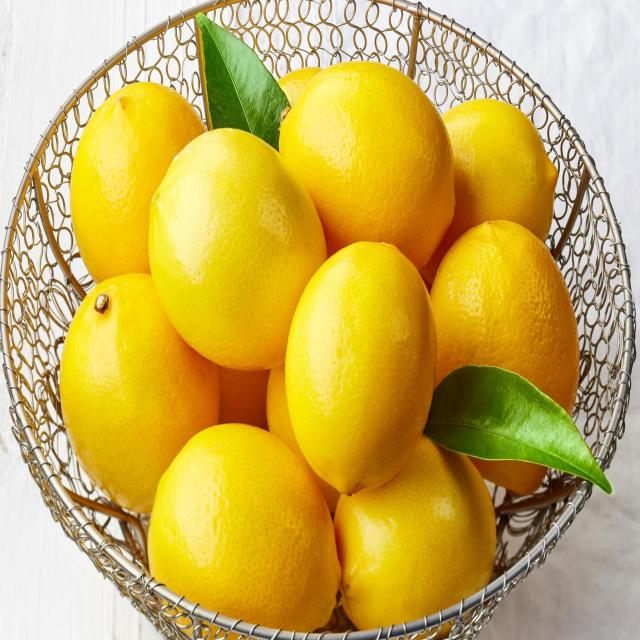lemon: (282, 237, 441, 501)
